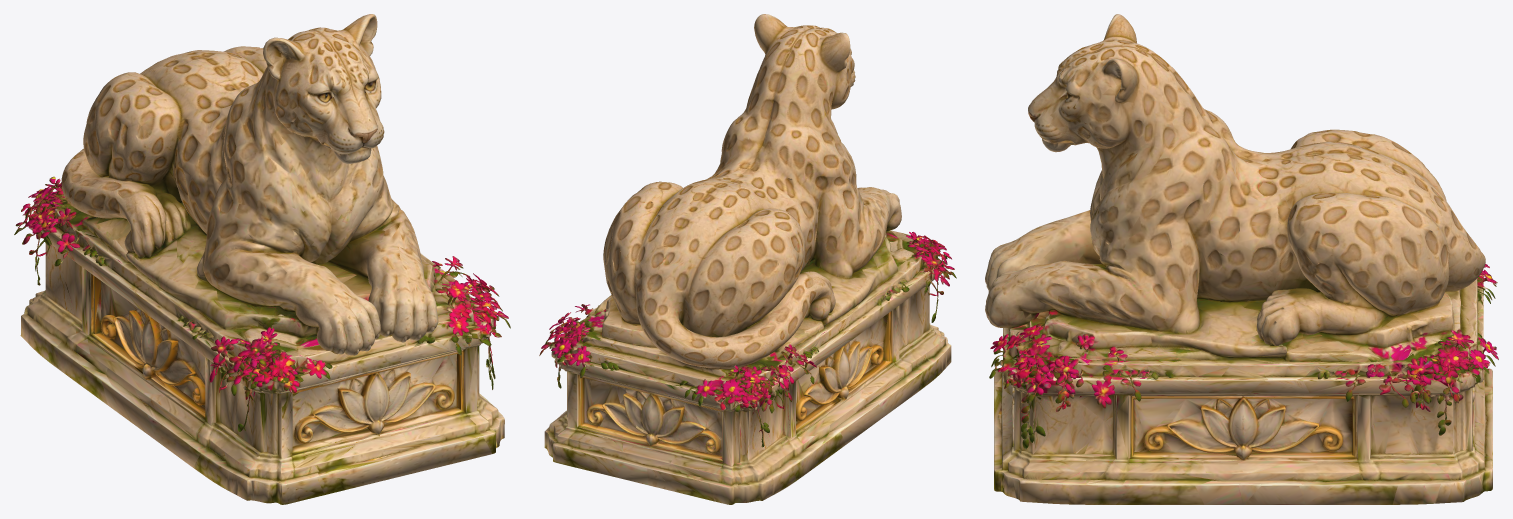
The model's file is esc-jaguar.glb.
3 views of the same model, side by side, from view 1: azimuth 30°, elevation 25°; view 2: azimuth 150°, elevation 25°; view 3: azimuth 270°, elevation 25° (orthographic). The views are drawn at different scales.
Visible parts, largest first — view 1: Mesh_0; view 2: Mesh_0; view 3: Mesh_0.
Part boxes in pixels (x1=…): Mesh_0: x1=14, y1=14, x2=510, y2=504; Mesh_0: x1=539, y1=14, x2=956, y2=504; Mesh_0: x1=985, y1=14, x2=1498, y2=504.
Bounding box in the file's own units: 1.21 × 1.57 × 1.83.
1 material, 1 textured.
